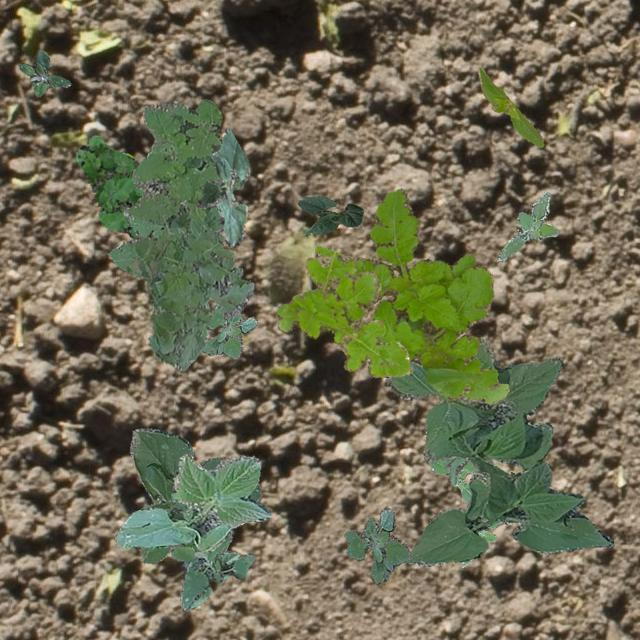crop: (383, 338, 612, 566), (128, 427, 260, 562), (114, 453, 270, 552), (196, 126, 248, 247), (477, 66, 542, 146), (190, 550, 238, 608), (296, 194, 362, 234), (442, 456, 468, 484)
weed: (109, 98, 254, 370), (342, 188, 508, 404), (276, 245, 412, 376), (428, 458, 510, 566), (170, 508, 253, 610), (74, 134, 142, 238), (344, 507, 409, 582), (497, 190, 558, 260), (202, 304, 256, 358), (17, 48, 70, 96)
